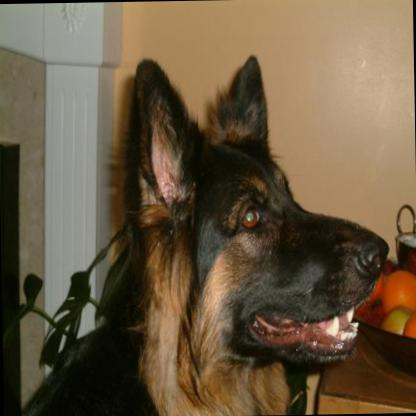German_shepherd: (0, 43, 392, 416)
